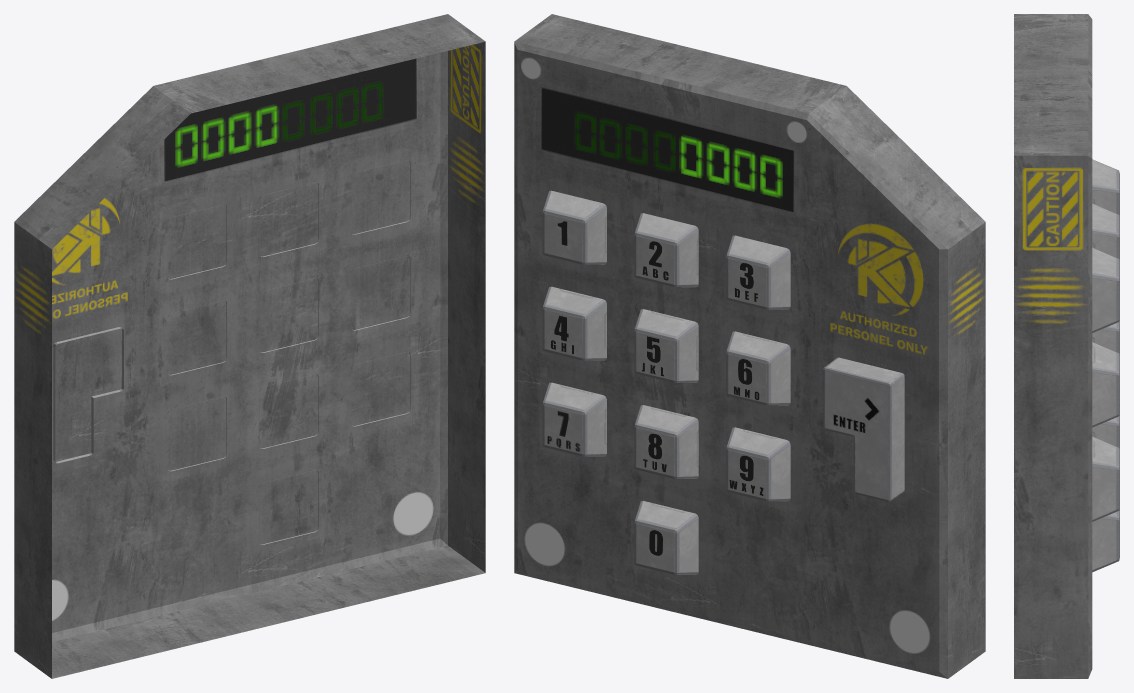
File: Keypad.fbx
3 renders of one model, left to right at view 1: azimuth 30°, elevation 25°; view 2: azimuth 150°, elevation 25°; view 3: azimuth 270°, elevation 25°, orthographic.
Parts seen in each view (by area): view 1: Panel_low, Button_low; view 2: Panel_low, Button_low; view 3: Panel_low, Button_low.
Part boxes in pixels (x1,y1,x2,y2): Panel_low: (14,14,485,678); Button_low: (53,160,410,544); Panel_low: (514,14,985,678); Button_low: (542,190,904,574); Panel_low: (1014,14,1092,678); Button_low: (1092,159,1119,572).
Size of the model in its own units: 1.71 by 2 by 0.3669.
Materials: 2 (2 with a texture image).
